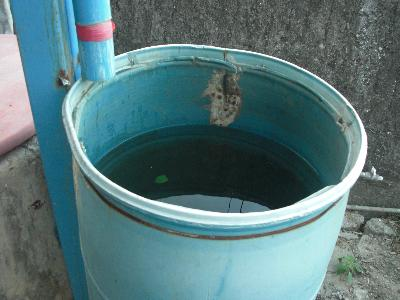bucket: (62, 42, 369, 300)
